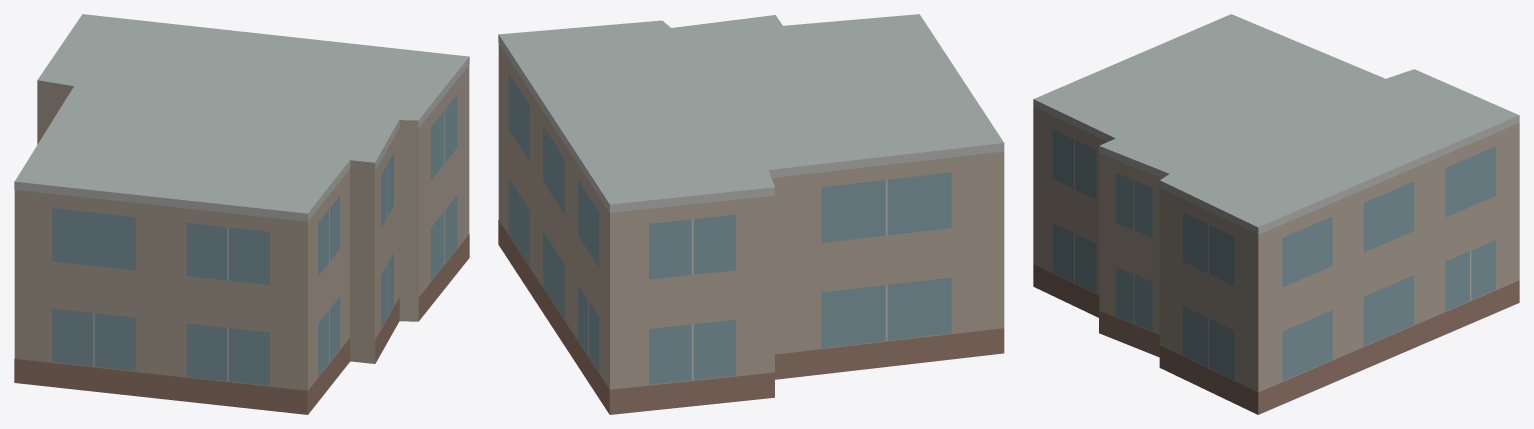
The model's file is survey-upis-32927660.glb.
3 renders of one model, left to right at view 1: azimuth 30°, elevation 25°; view 2: azimuth 150°, elevation 25°; view 3: azimuth 270°, elevation 25°, orthographic. The views are drawn at different scales.
Parts seen in each view (by area): view 1: survey-upis-32927660.tmp; view 2: survey-upis-32927660.tmp; view 3: survey-upis-32927660.tmp.
Boxes of the visible parts, box(x1,y1,x2,y2) form: survey-upis-32927660.tmp: box(14, 14, 469, 414); survey-upis-32927660.tmp: box(498, 14, 1004, 414); survey-upis-32927660.tmp: box(1033, 14, 1519, 414).
Bounding box in the file's own units: 14.9 × 6.1 × 14.34.
